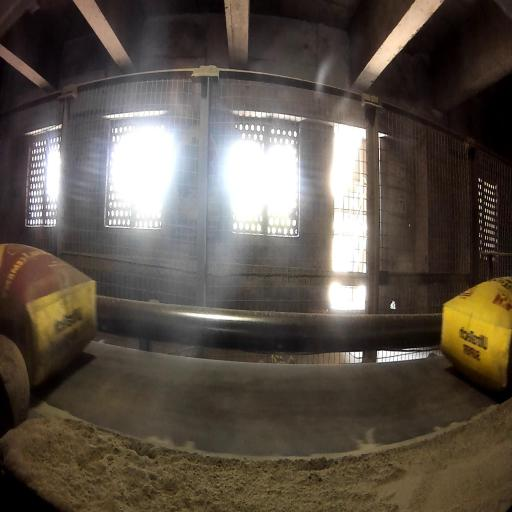c-belt-sack-count: (0, 244, 97, 387), (441, 277, 512, 391)
